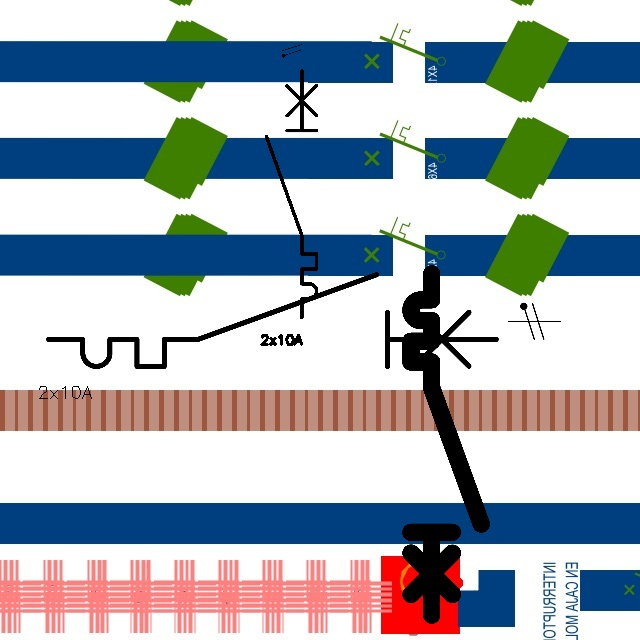interruptor_termomagnetico: (37, 263, 508, 378), (402, 265, 489, 623), (260, 64, 323, 324)
